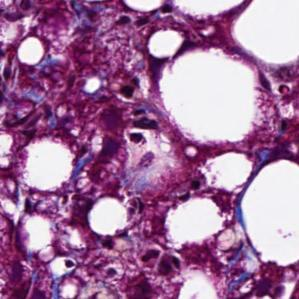inflammation: (112, 73, 161, 147), (137, 242, 186, 277)
